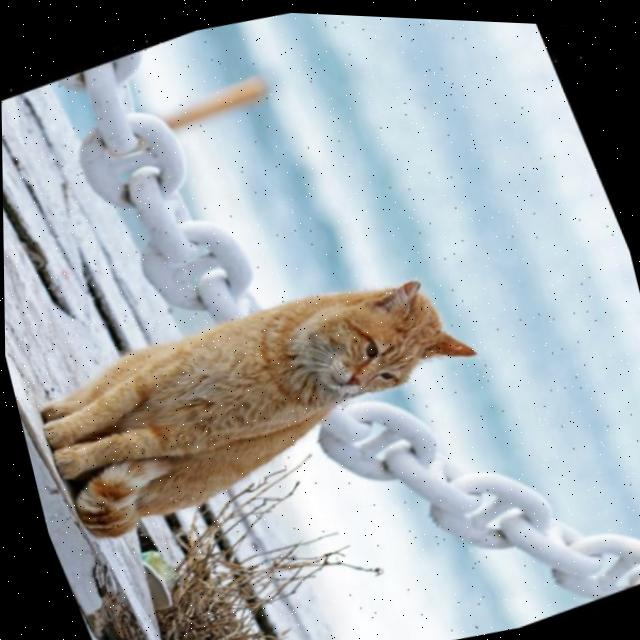Cats: (36, 275, 472, 539)
